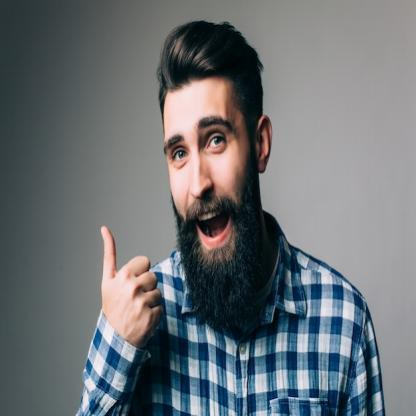thumb_up: (101, 224, 166, 350)
